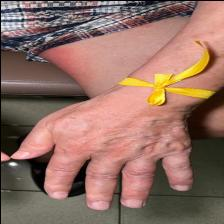DA: (120, 162, 156, 198), (48, 157, 75, 189)
